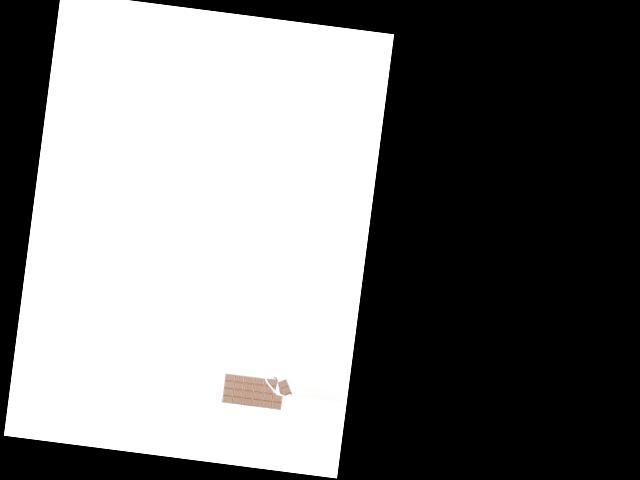chocolate: (220, 364, 294, 415)
